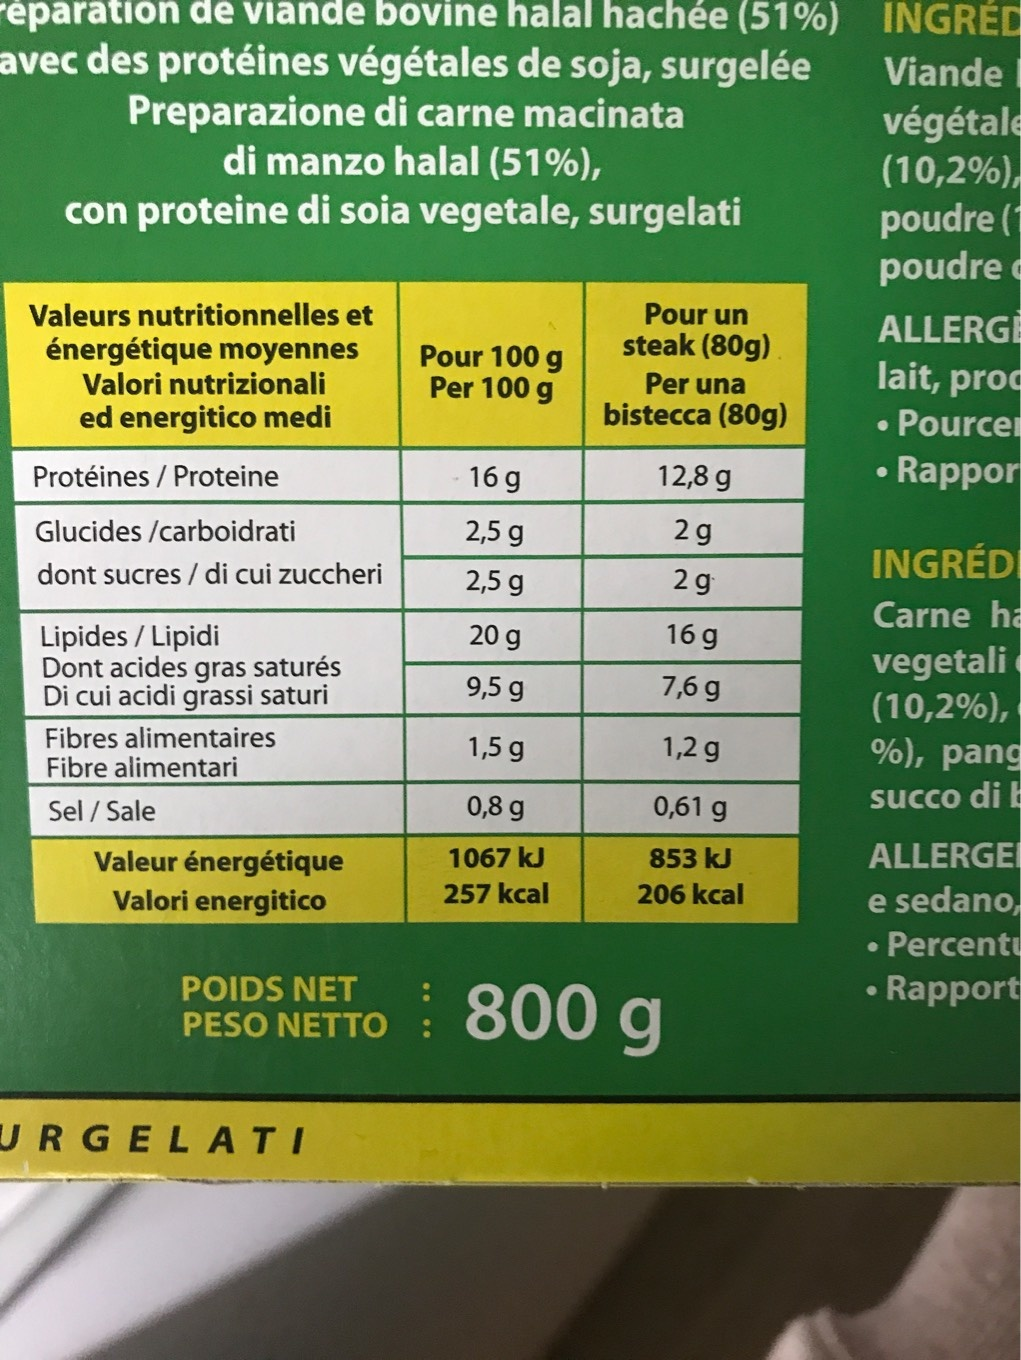column: (32, 299, 376, 914), (603, 295, 789, 920), (418, 297, 564, 914)
table: (9, 283, 807, 933)
